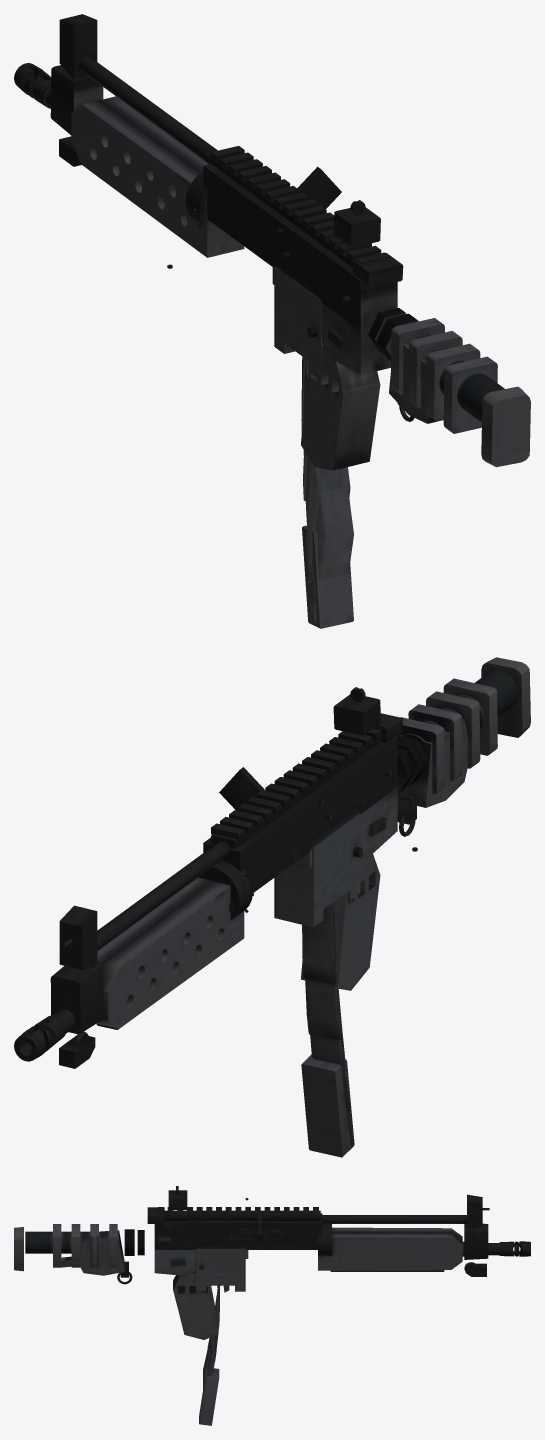
Rendered from W_rifle_m4.glb.
3 renders of one model, top to bottom at view 1: azimuth 30°, elevation 25°; view 2: azimuth 150°, elevation 25°; view 3: azimuth 270°, elevation 25°, orthographic. The views are drawn at different scales.
Visible parts, largest first — view 1: W_rifle_m4; view 2: W_rifle_m4; view 3: W_rifle_m4.
Part boxes in pixels (<box>): W_rifle_m4: <box>14,14,530,628</box>; W_rifle_m4: <box>14,657,530,1157</box>; W_rifle_m4: <box>14,1186,530,1425</box>.
Bounding box in the file's own units: 0.1597 × 0.3655 × 0.728.
Materials: 1 (1 with a texture image).
